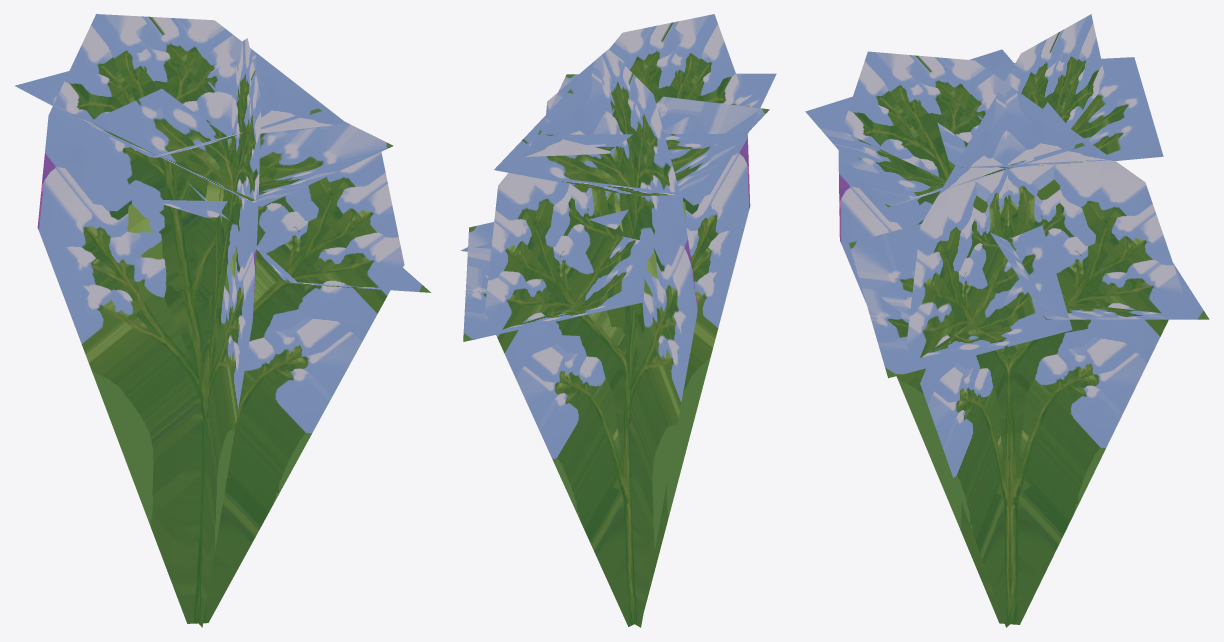
File: SM_Flower_09_02.fbx
3 renders of one model, left to right at view 1: azimuth 30°, elevation 25°; view 2: azimuth 150°, elevation 25°; view 3: azimuth 270°, elevation 25°, orthographic. The views are drawn at different scales.
Visible parts, largest first — view 1: SM_Flower_09_02_LOD0; view 2: SM_Flower_09_02_LOD0; view 3: SM_Flower_09_02_LOD0.
Boxes of the visible parts, x1,y1,x2,y2 form: SM_Flower_09_02_LOD0: (14,14,431,627); SM_Flower_09_02_LOD0: (460,14,776,627); SM_Flower_09_02_LOD0: (805,14,1209,627).
Size of what is drawn, in the model's own units: 48.67 by 94.81 by 59.81.
